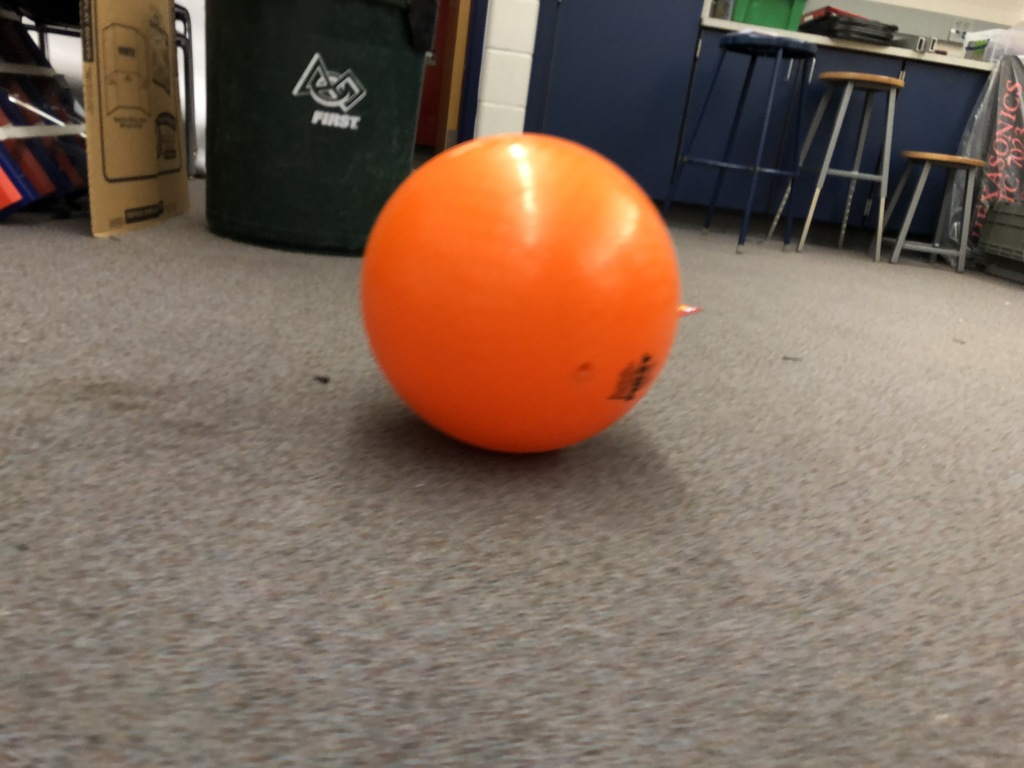cargo: (350, 117, 688, 478)
